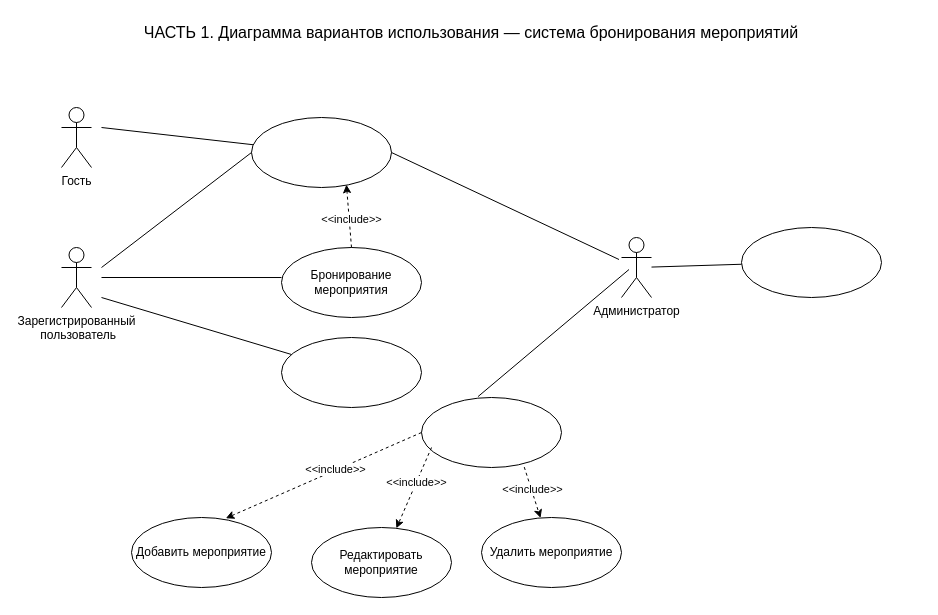
This 938x615 diagram has some shape labels left out. Each missing label, with the box of its shape:
Отмена бронирования: (280, 336, 422, 408)
Просмотр всех бронирований: (740, 226, 882, 298)
Просмотр мероприятий: (250, 116, 392, 188)
Управление мероприятиями: (420, 396, 562, 468)
